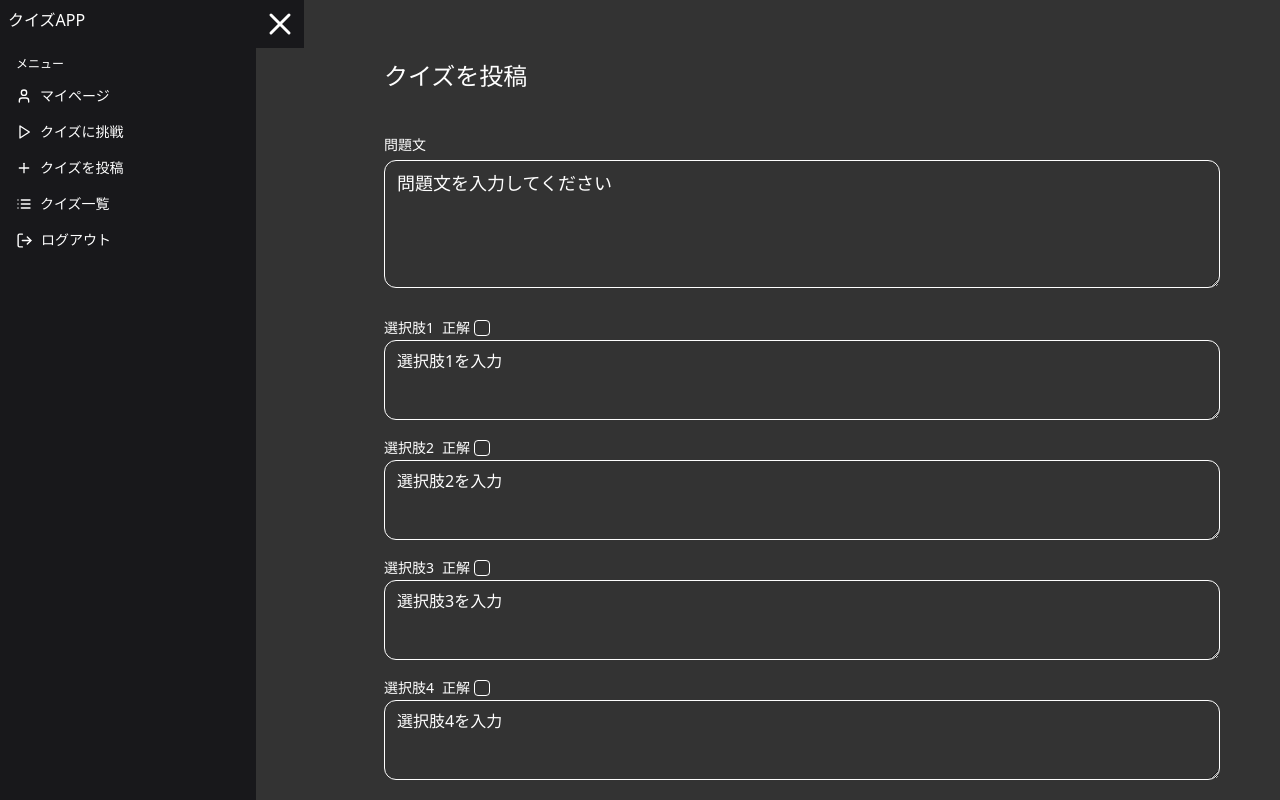
Test: クイズ投稿フォーム › 正常にクイズを投稿できる
Type "問題文" into the text box with placeholder "問題文を入力してください".
click(802, 224); type("問題文")  # box [384,160,1220,288]
Type "選択肢1" into the text box with placeholder "選択肢1を入力".
click(802, 380); type("選択肢1")  # box [384,340,1220,420]
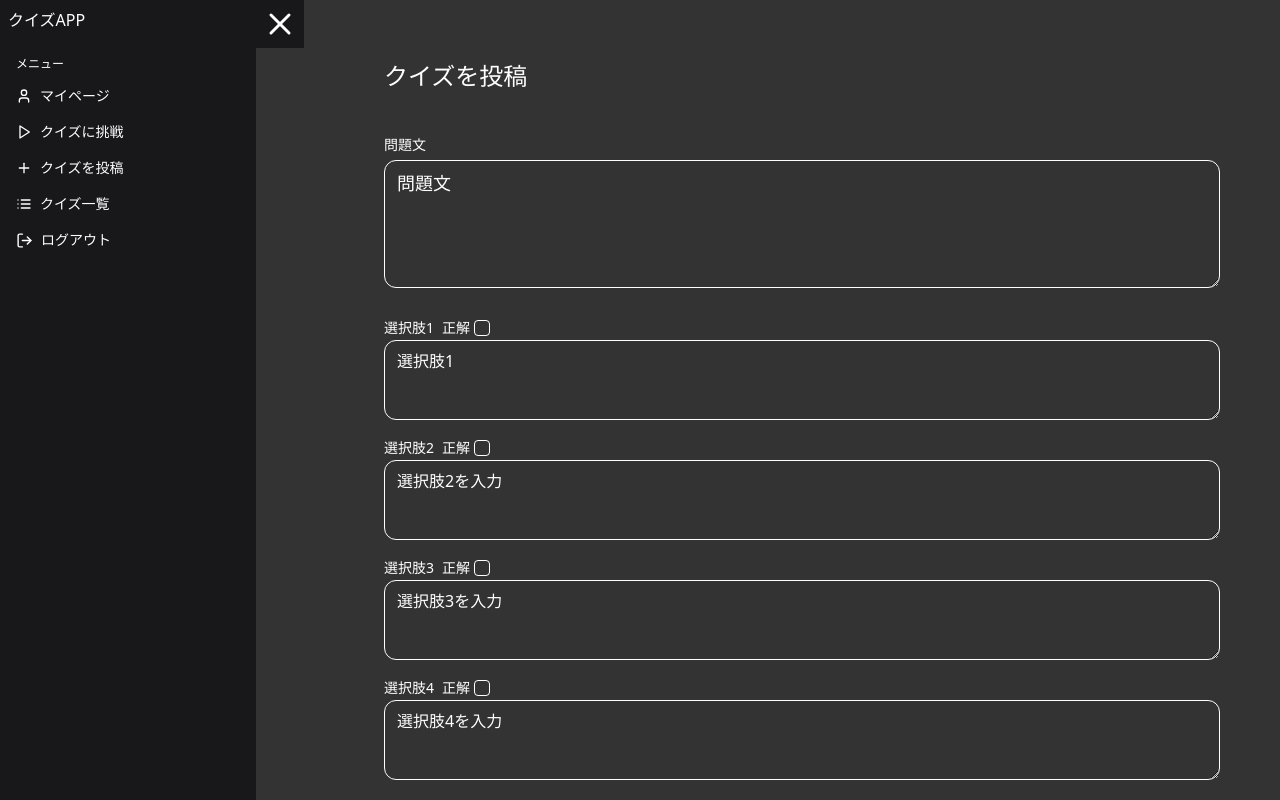
Type "選択肢2" into the text box with placeholder "選択肢2を入力".
click(802, 500); type("選択肢2")  # box [384,460,1220,540]
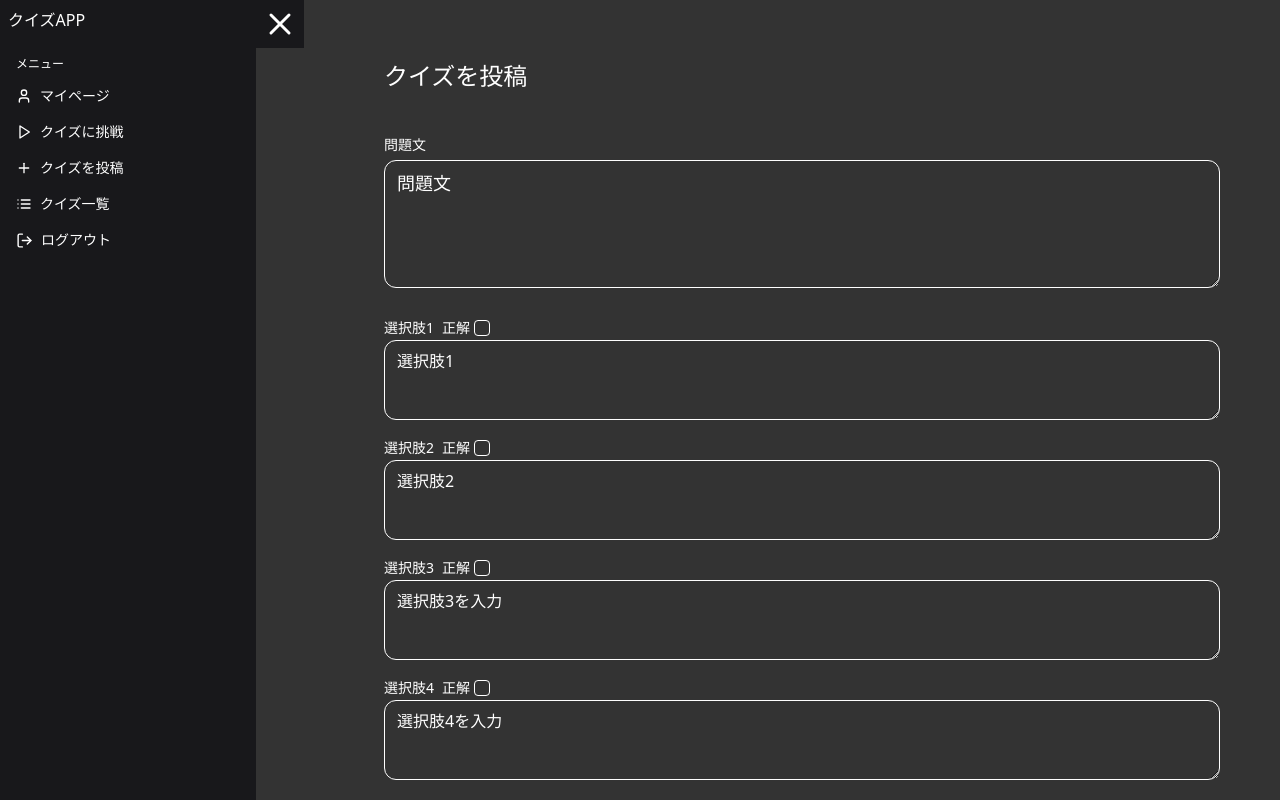
Type "選択肢3" into the text box with placeholder "選択肢3を入力".
click(802, 620); type("選択肢3")  # box [384,580,1220,660]
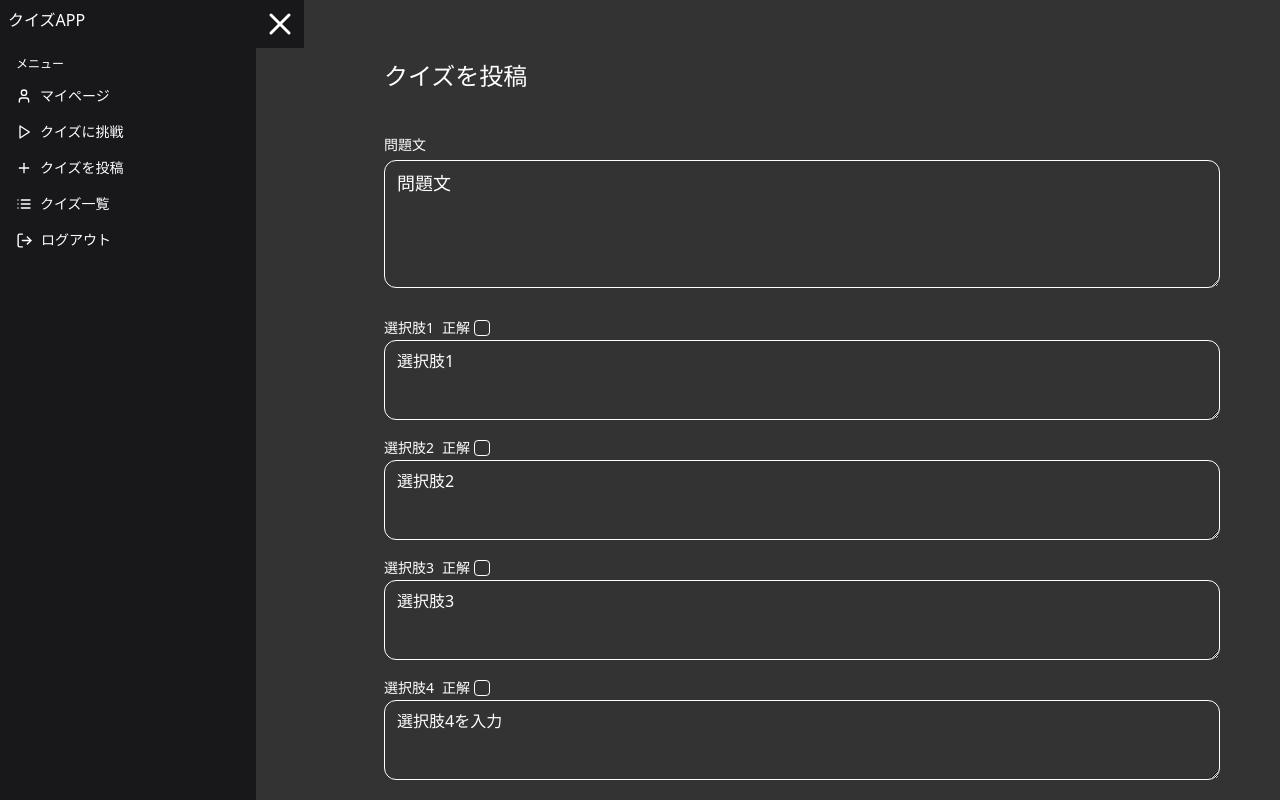
Type "選択肢4" into the text box with placeholder "選択肢4を入力".
click(802, 740); type("選択肢4")  # box [384,700,1220,780]
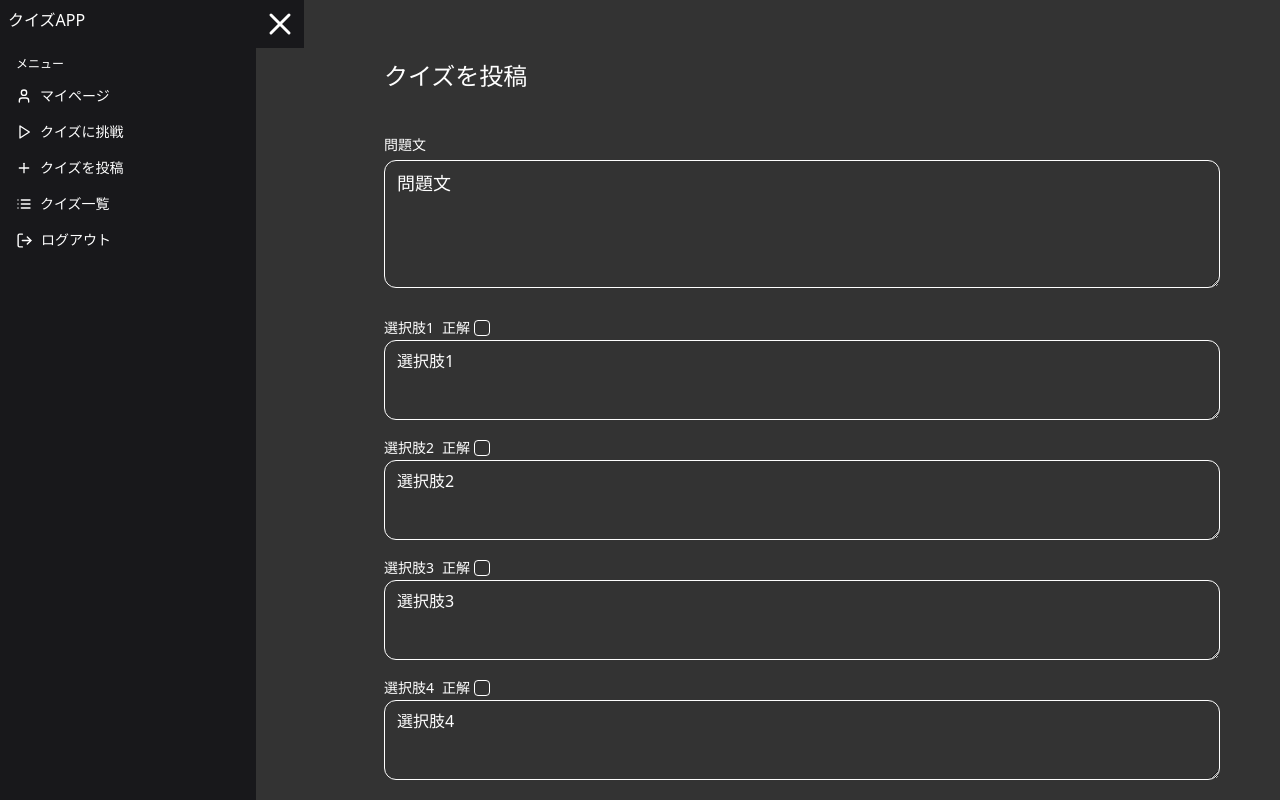
Click the checkbox in the row of "選択肢1".
click(482, 328)  # box [474,320,490,336]
(page scrolled)
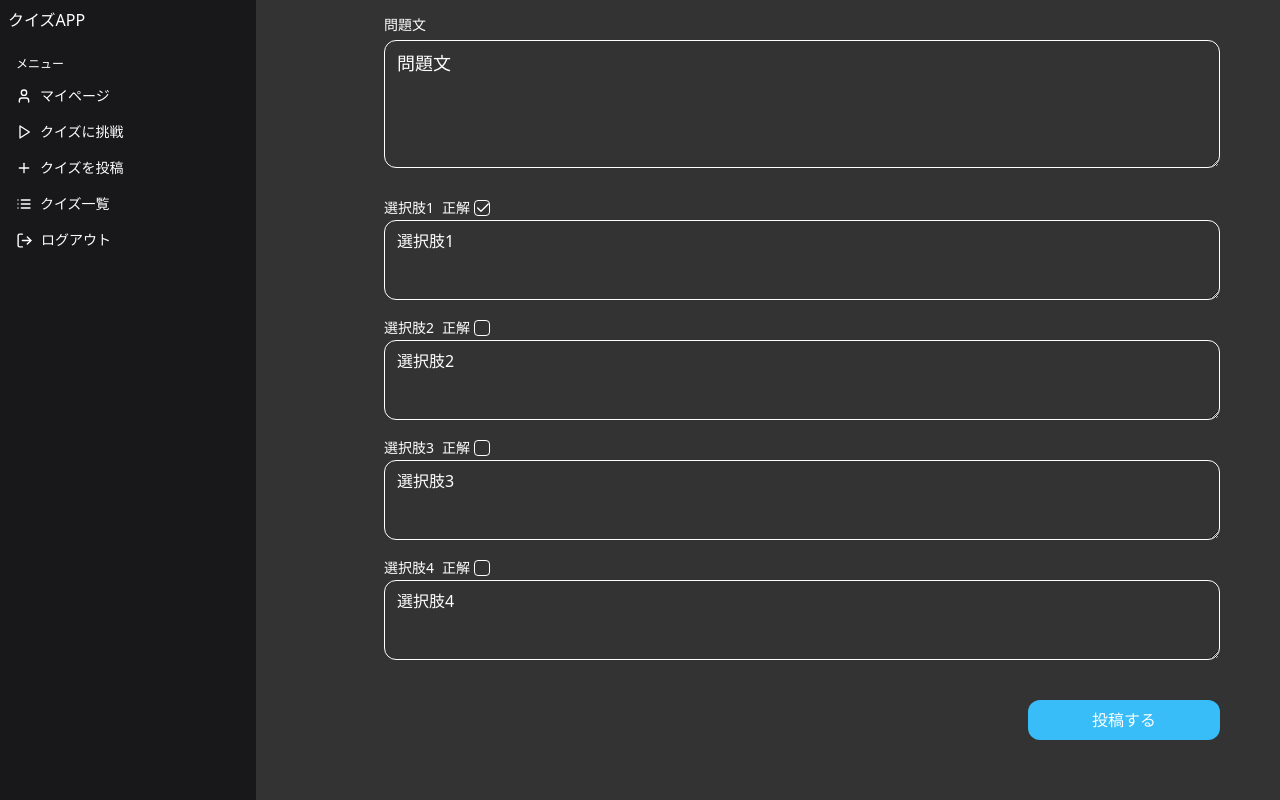
Click the button "投稿する".
click(1124, 720)  # box [1028,700,1220,740]
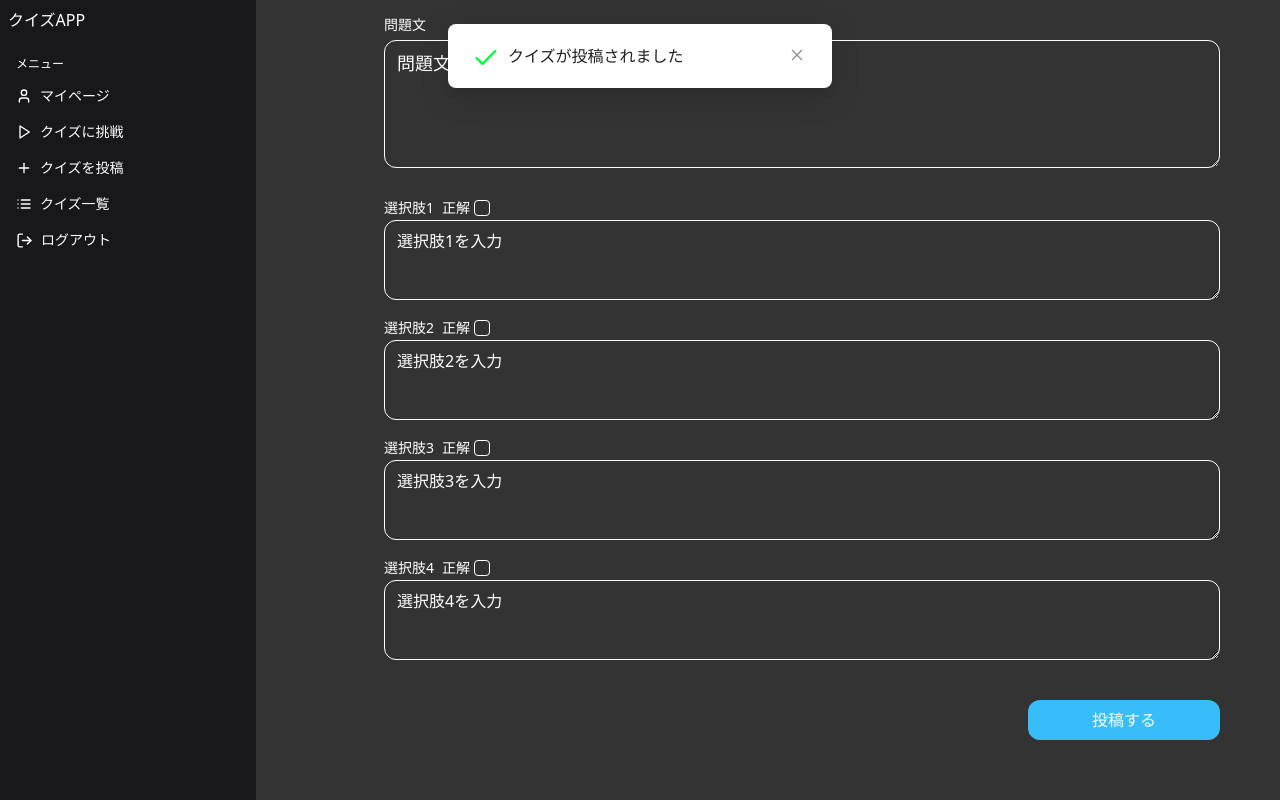
Result: the text "クイズが投稿されました" is shown at [508,46,684,66]
